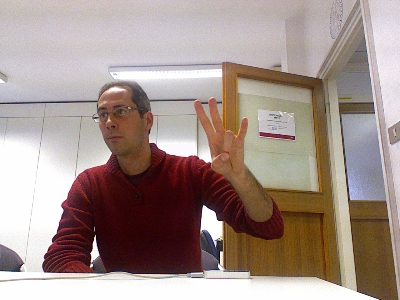观音: (193, 97, 248, 177)
